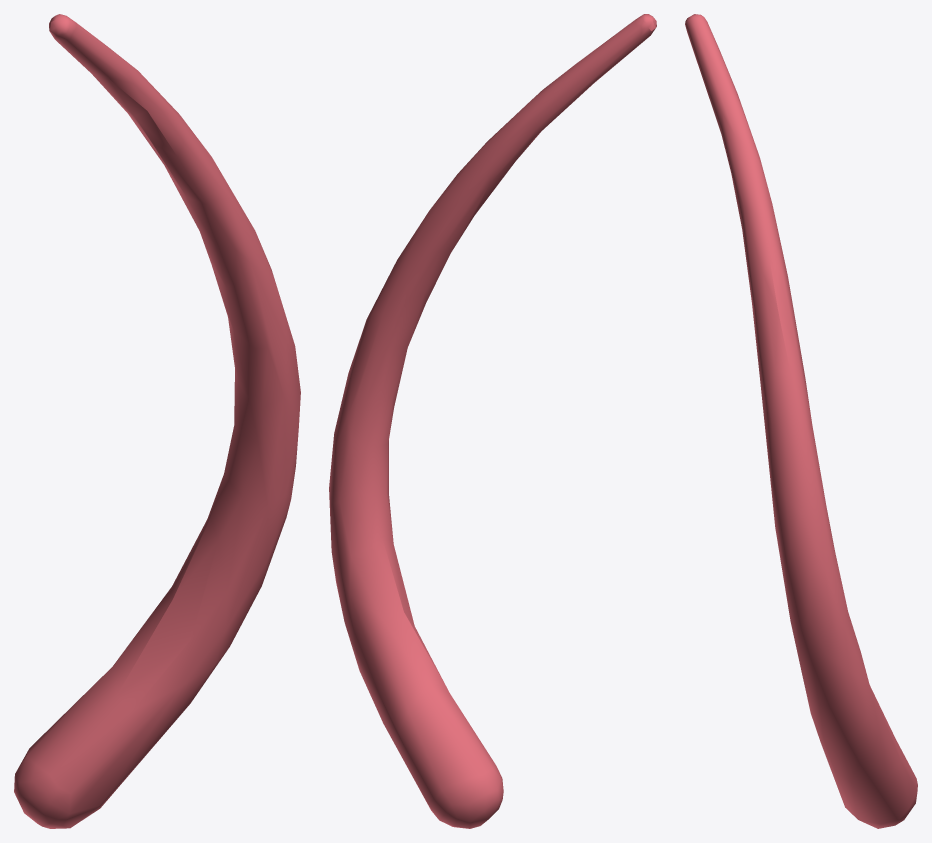
Rendered from fma8634_fj2915.glb.
3 views of the same model, side by side, from view 1: azimuth 30°, elevation 25°; view 2: azimuth 150°, elevation 25°; view 3: azimuth 270°, elevation 25° (orthographic). The views are drawn at different scales.
Visible parts, largest first — view 1: FMA8634_FJ2915; view 2: FMA8634_FJ2915; view 3: FMA8634_FJ2915.
Boxes of the visible parts, <box> form: FMA8634_FJ2915: <box>14,14,300,828</box>; FMA8634_FJ2915: <box>329,14,656,828</box>; FMA8634_FJ2915: <box>685,14,917,828</box>.
Size of the model in its own units: 0.0262 by 0.0731 by 0.0201.
